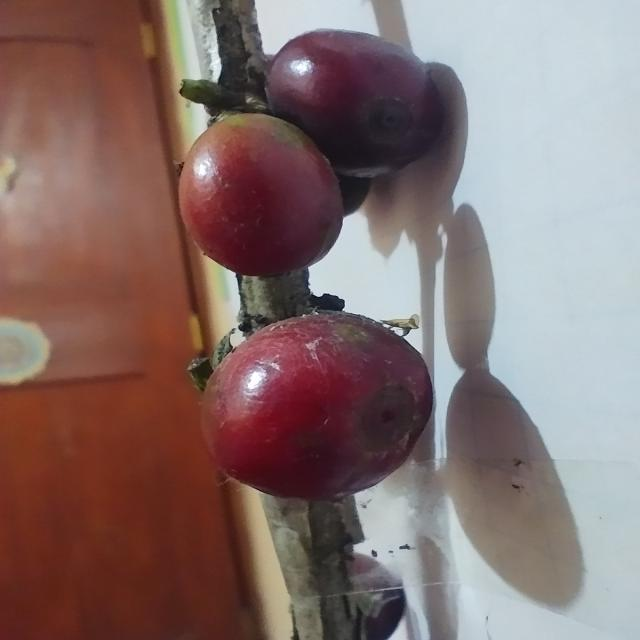Danado: (197, 312, 434, 502)
Sano: (177, 112, 346, 280), (266, 30, 447, 181)
